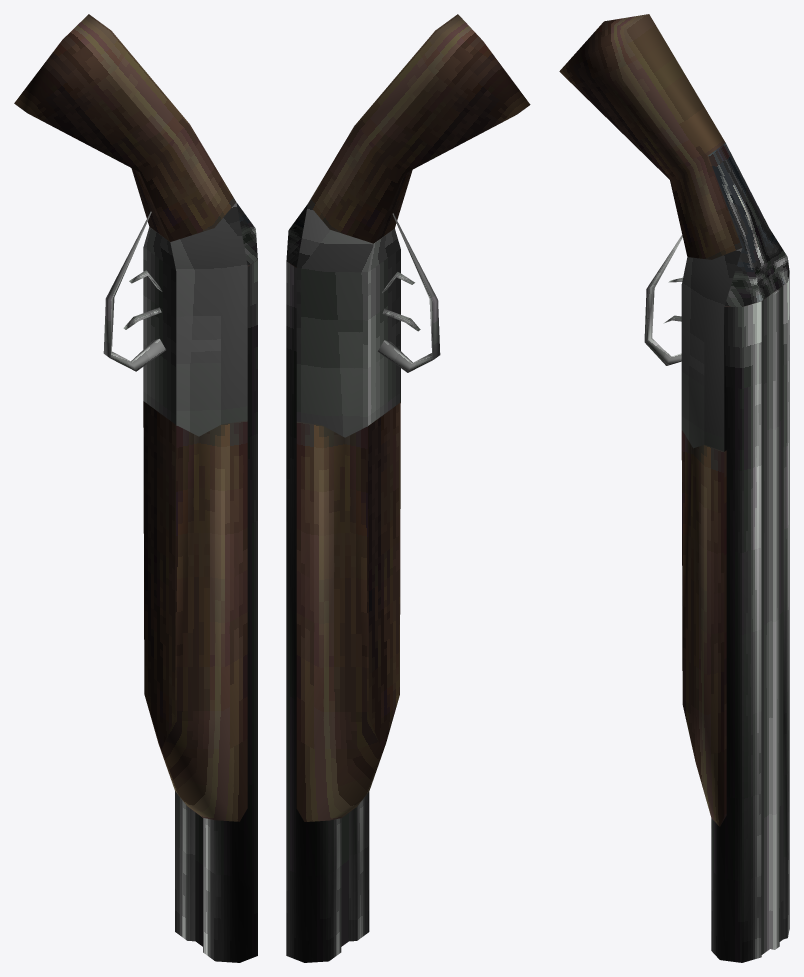
Rendered from Sawedoff Shotgun.obj.
The picture shows the model from 3 angles, left to right: view 1: azimuth 30°, elevation 25°; view 2: azimuth 150°, elevation 25°; view 3: azimuth 330°, elevation 25°; orthographic projection. The views are drawn at different scales.
Parts seen in each view (by area): view 1: sawedoffshotgun.sawedoffshotgun.smd.mesh_0, sawedoffshotgun.sawedoffshotgun.smd.mesh_1; view 2: sawedoffshotgun.sawedoffshotgun.smd.mesh_0, sawedoffshotgun.sawedoffshotgun.smd.mesh_1; view 3: sawedoffshotgun.sawedoffshotgun.smd.mesh_1, sawedoffshotgun.sawedoffshotgun.smd.mesh_0.
Boxes of the visible parts, x1,y1,x2,y2 form: sawedoffshotgun.sawedoffshotgun.smd.mesh_0: (14,14,257,821); sawedoffshotgun.sawedoffshotgun.smd.mesh_1: (103,202,257,962); sawedoffshotgun.sawedoffshotgun.smd.mesh_0: (286,14,530,821); sawedoffshotgun.sawedoffshotgun.smd.mesh_1: (286,204,440,962); sawedoffshotgun.sawedoffshotgun.smd.mesh_1: (644,235,789,962); sawedoffshotgun.sawedoffshotgun.smd.mesh_0: (559,14,789,826).
Size of the model in its own units: 9.04 by 36.52 by 4.12.
Materials: 2 (2 with a texture image).
